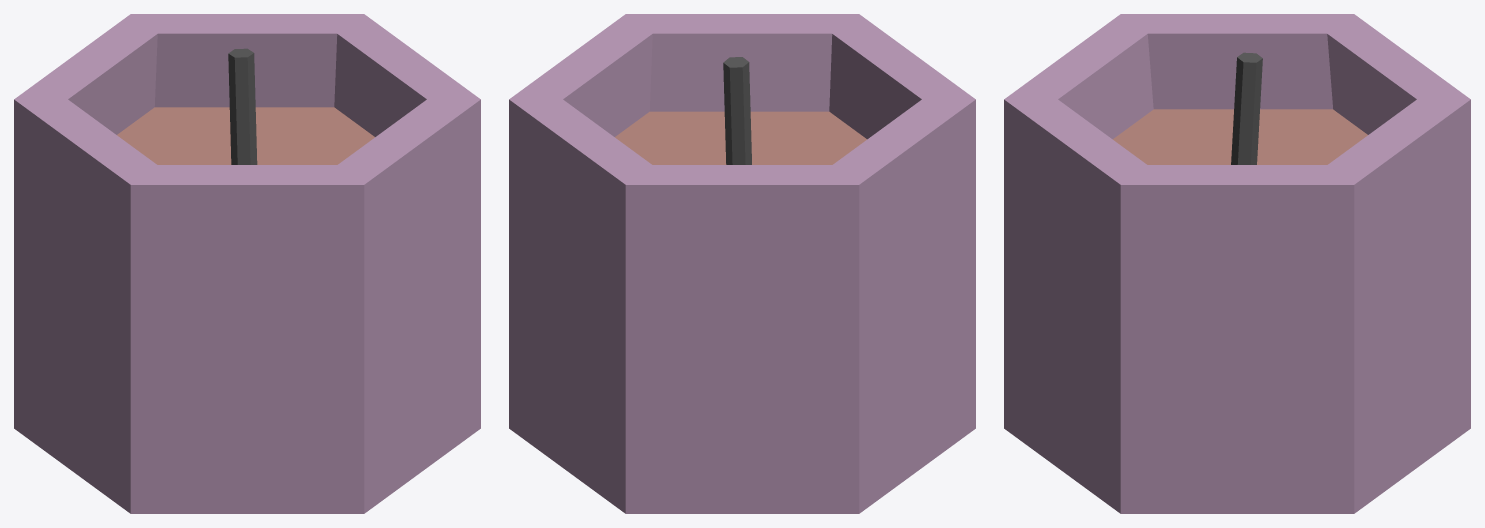
File: candle_2.fbx
3 renders of one model, left to right at view 1: azimuth 30°, elevation 25°; view 2: azimuth 150°, elevation 25°; view 3: azimuth 270°, elevation 25°, orthographic.
Visible parts, largest first — view 1: Candle.002; view 2: Candle.002; view 3: Candle.002.
Boxes of the visible parts, box(x1,y1,x2,y2) form: Candle.002: box(14, 14, 480, 513); Candle.002: box(509, 14, 975, 513); Candle.002: box(1004, 14, 1470, 513).
Bounding box in the file's own units: 15.59 × 15.8 × 18.
